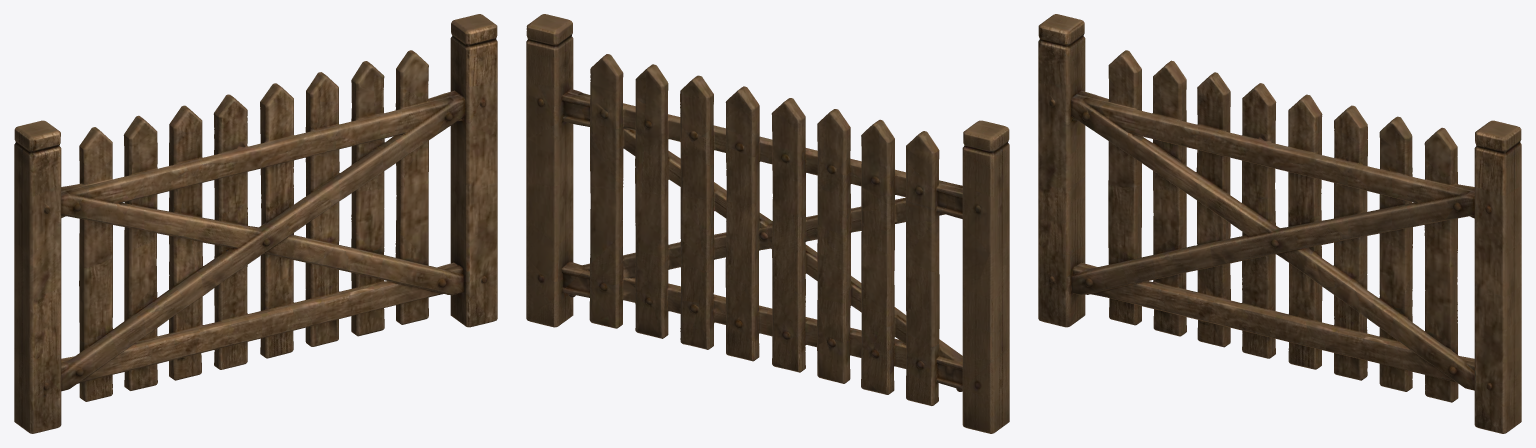
File: wooden-fence-b.glb
3 views of the same model, side by side, from view 1: azimuth 30°, elevation 25°; view 2: azimuth 150°, elevation 25°; view 3: azimuth 330°, elevation 25° (orthographic).
Parts seen in each view (by area): view 1: mesh_node; view 2: mesh_node; view 3: mesh_node.
Part boxes in pixels (box(x1,y1,x2,y2)): mesh_node: box(14, 14, 497, 433); mesh_node: box(526, 14, 1009, 433); mesh_node: box(1038, 14, 1521, 433).
Size of the model in its own units: 1.9 by 1.15 by 0.1453.
1 material, 1 textured.
